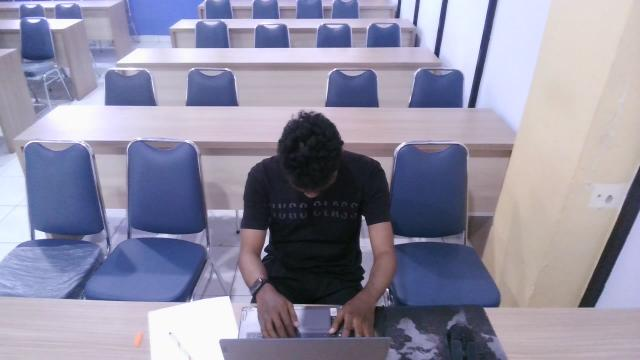Head_Down_Extreme: (235, 100, 391, 281)
